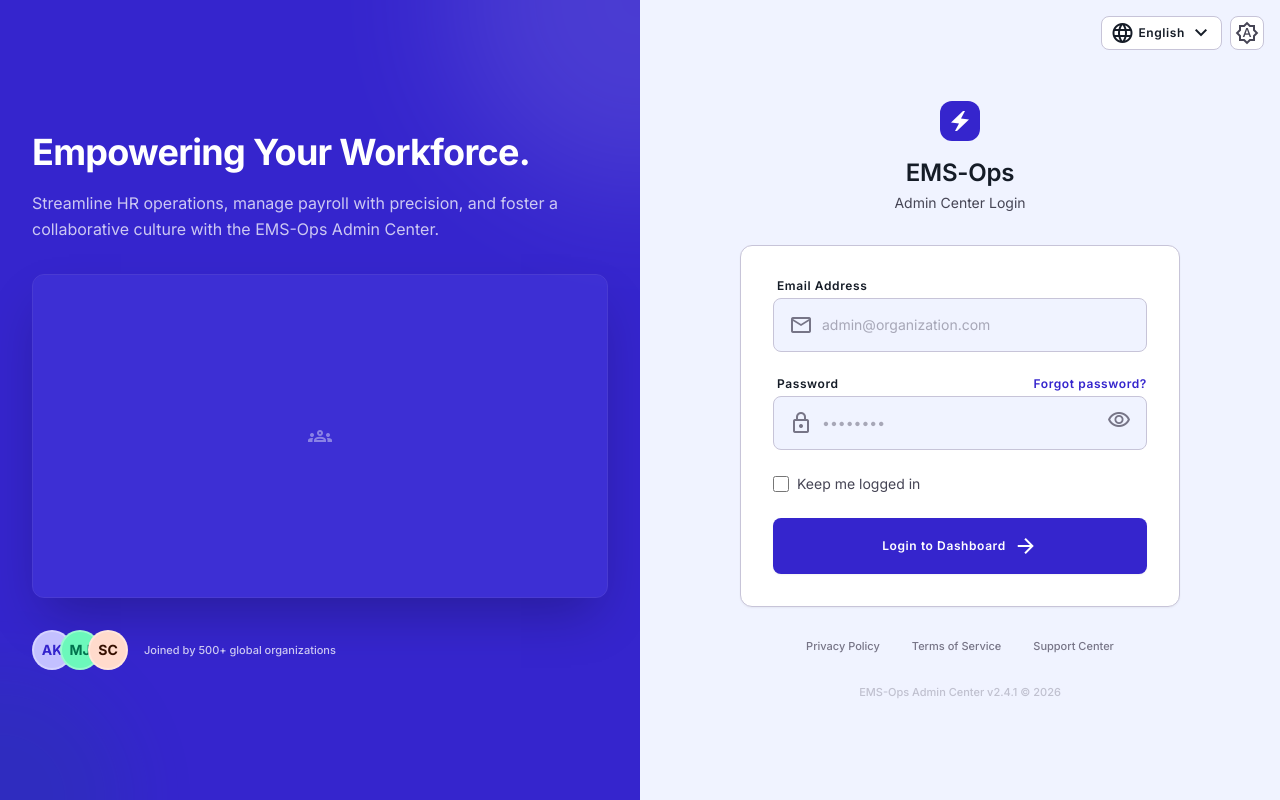
Test case: LoginPage › disables submit button while loading
Step 1. Type "test@test.com" into the field labelled "Email Address" → (960, 325), box [773,298,1147,352]
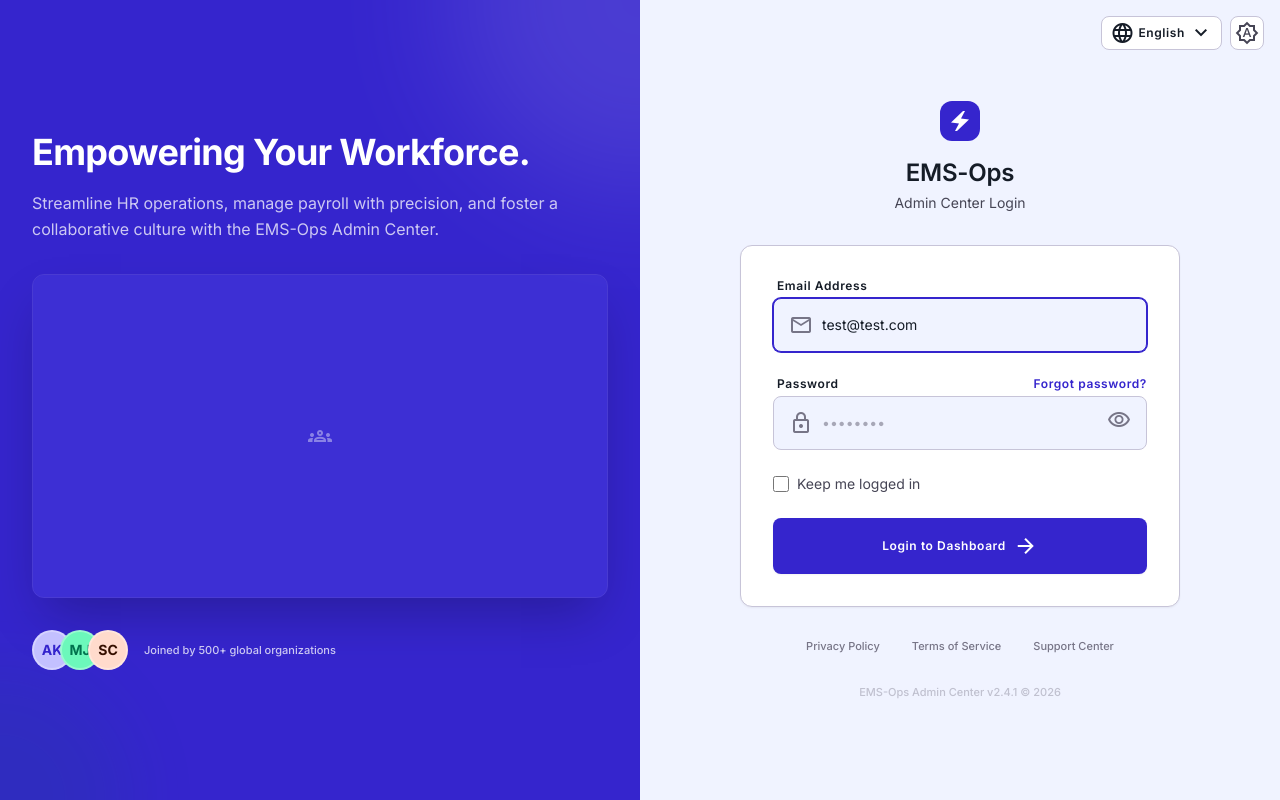
Step 2. Type "password" into the password field labelled "Password" → (960, 423), box [773,396,1147,450]
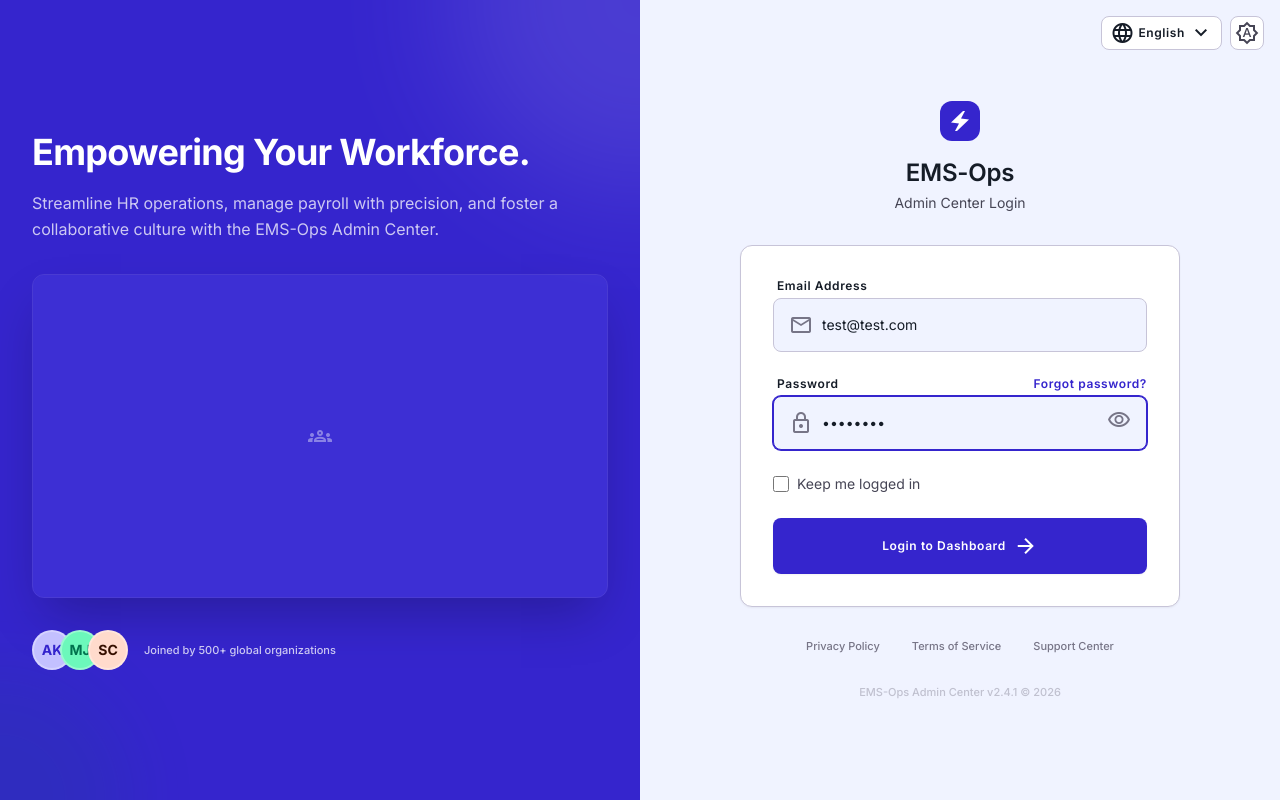
Step 3. Click the button "Login to Dashboard" → (960, 546), box [773,518,1147,574]
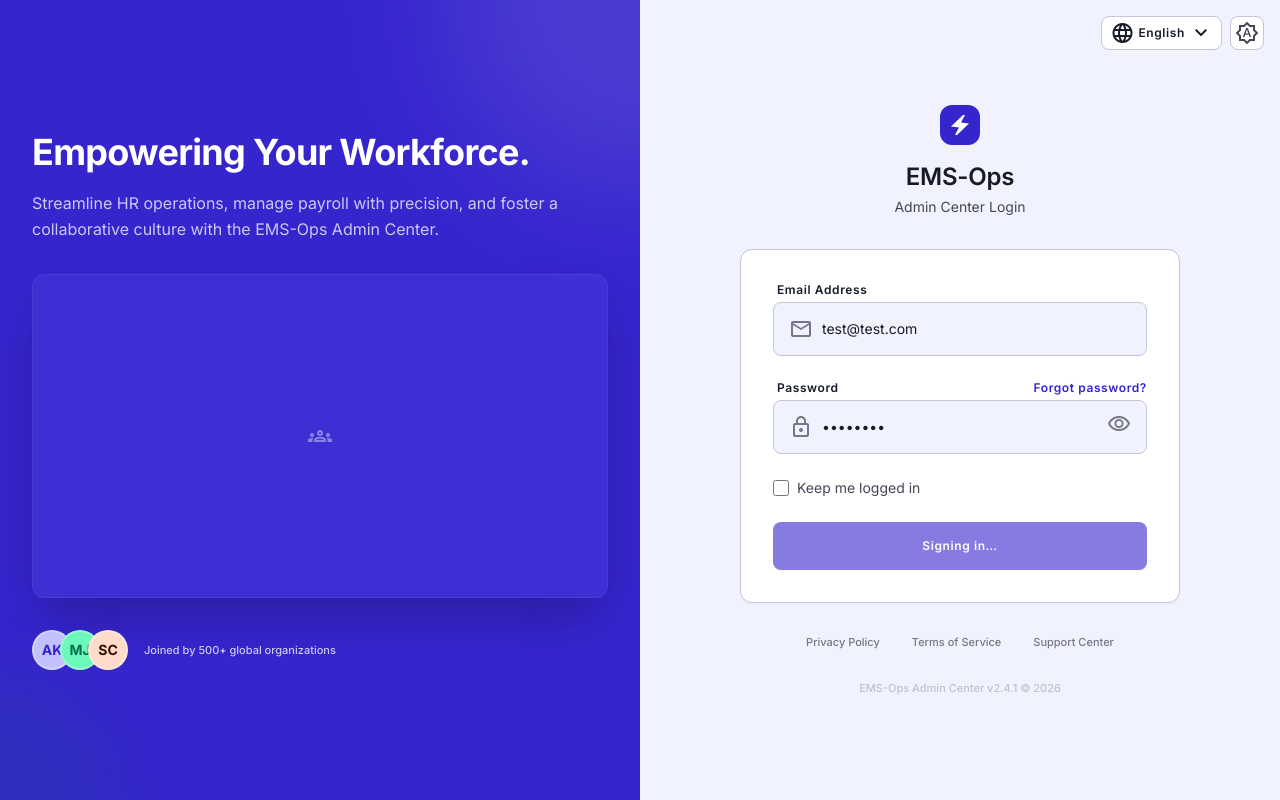
expect the button "Signing in…" is disabled: met, box [773,522,1147,570]
